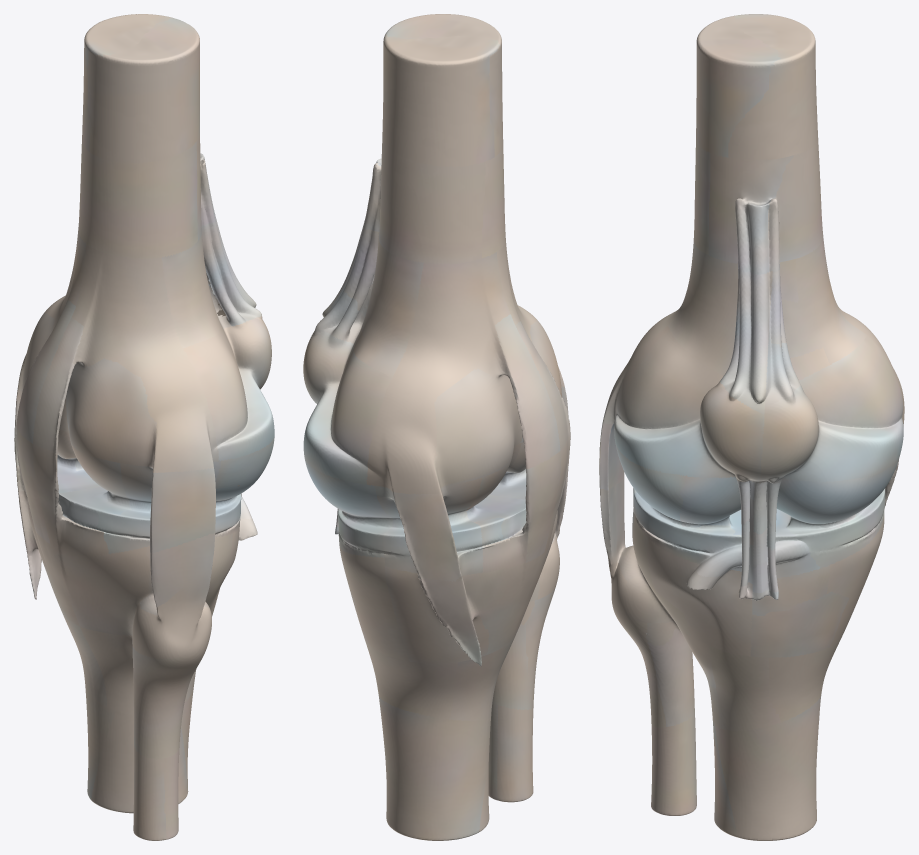
Rendered from joint_structure_compressed.glb.
The picture shows the model from 3 angles, left to right: view 1: azimuth 30°, elevation 25°; view 2: azimuth 150°, elevation 25°; view 3: azimuth 270°, elevation 25°; orthographic projection. The views are drawn at different scales.
Parts seen in each view (by area): view 1: tripo_node_6dfcf579-1178-4c96-a6d8-d5310e652a6d; view 2: tripo_node_6dfcf579-1178-4c96-a6d8-d5310e652a6d; view 3: tripo_node_6dfcf579-1178-4c96-a6d8-d5310e652a6d.
Part boxes in pixels (x1=…): tripo_node_6dfcf579-1178-4c96-a6d8-d5310e652a6d: x1=14, y1=14, x2=274, y2=840; tripo_node_6dfcf579-1178-4c96-a6d8-d5310e652a6d: x1=303, y1=14, x2=570, y2=840; tripo_node_6dfcf579-1178-4c96-a6d8-d5310e652a6d: x1=599, y1=14, x2=904, y2=840.
Size of the model in its own units: 0.3194 by 1 by 0.3538.
1 material, 1 textured.
